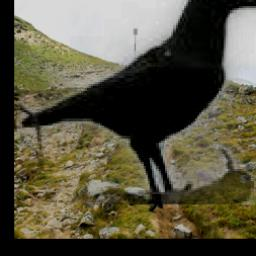Crow: (18, 0, 256, 204)
